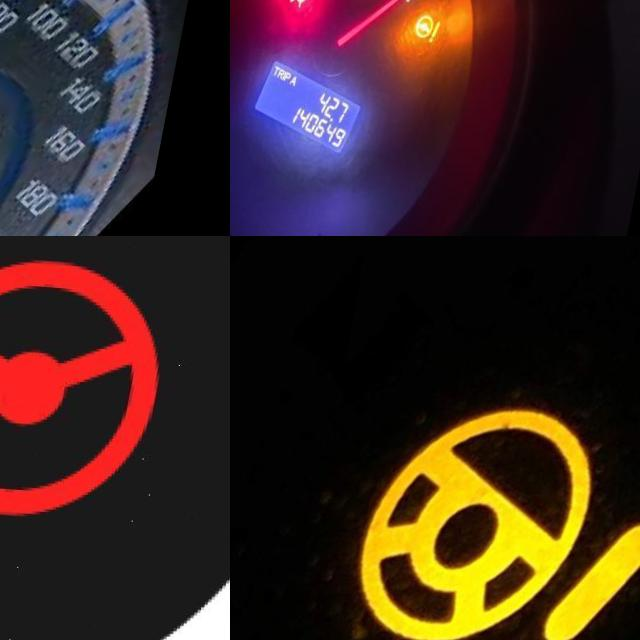Electronic Power Steering: (358, 396, 640, 640), (420, 5, 459, 40)
Electronic Power Steering Warning: (0, 238, 189, 510)
